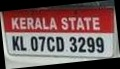character: (95, 36, 105, 53), (46, 36, 56, 52), (86, 36, 95, 53), (11, 35, 20, 51), (77, 36, 86, 52), (19, 34, 27, 51), (30, 35, 38, 51), (38, 35, 46, 51), (69, 36, 77, 52), (76, 16, 85, 30), (68, 16, 76, 31), (56, 36, 64, 51), (49, 17, 58, 30), (83, 16, 92, 29), (61, 16, 69, 30), (92, 16, 100, 30), (11, 16, 19, 29), (19, 16, 27, 29), (42, 16, 50, 29), (34, 17, 42, 29), (27, 16, 34, 29)
